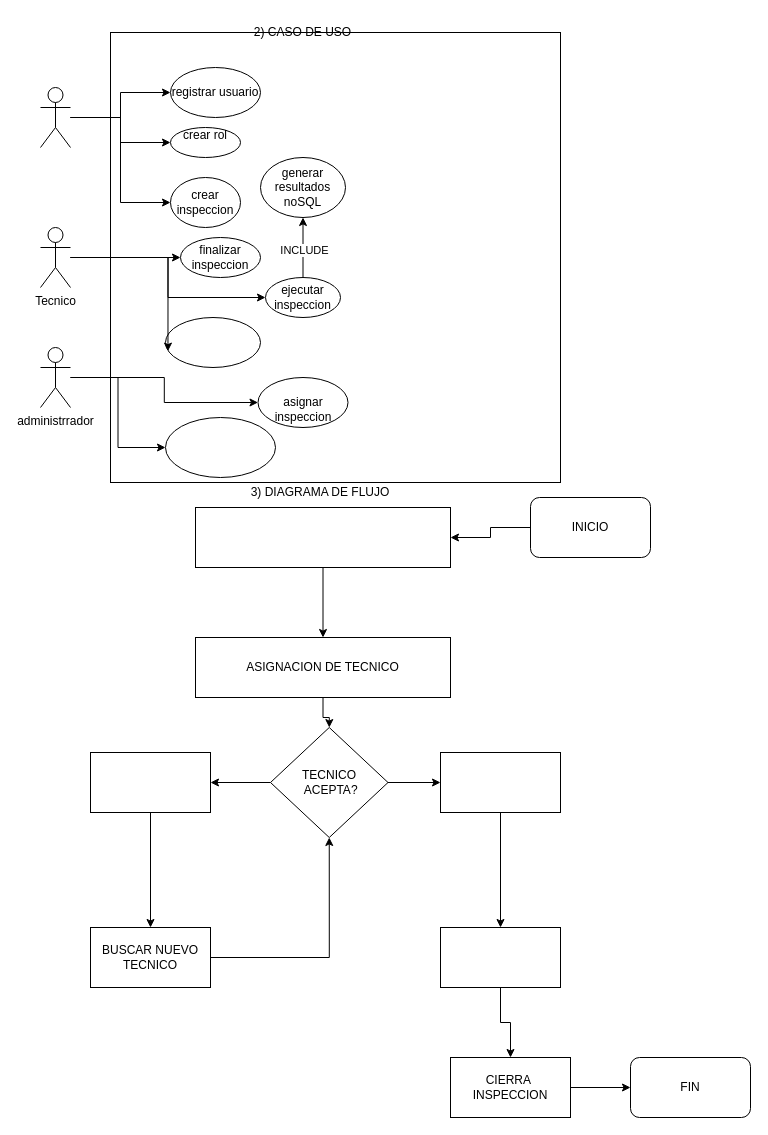
The diagram is 768 pixels wide and 1135 high, and some of its shapes have lost their labels. Each missing label, with the centre of its shape:
aceptar inspeccion: point 212,342
CREACION DE INSPECCION: point 322,537
EJECUCION DE PRUEBA REGISTRA RESULTADOS: point 500,957
empresa: point 55,117
NO: point 150,782
revisar historial deinspeccion: point 220,447
SI: point 500,782
